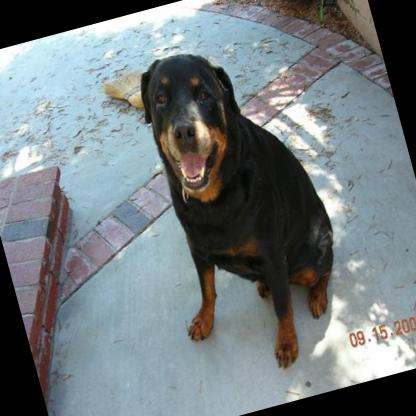Rottweiler: (117, 26, 361, 384)
